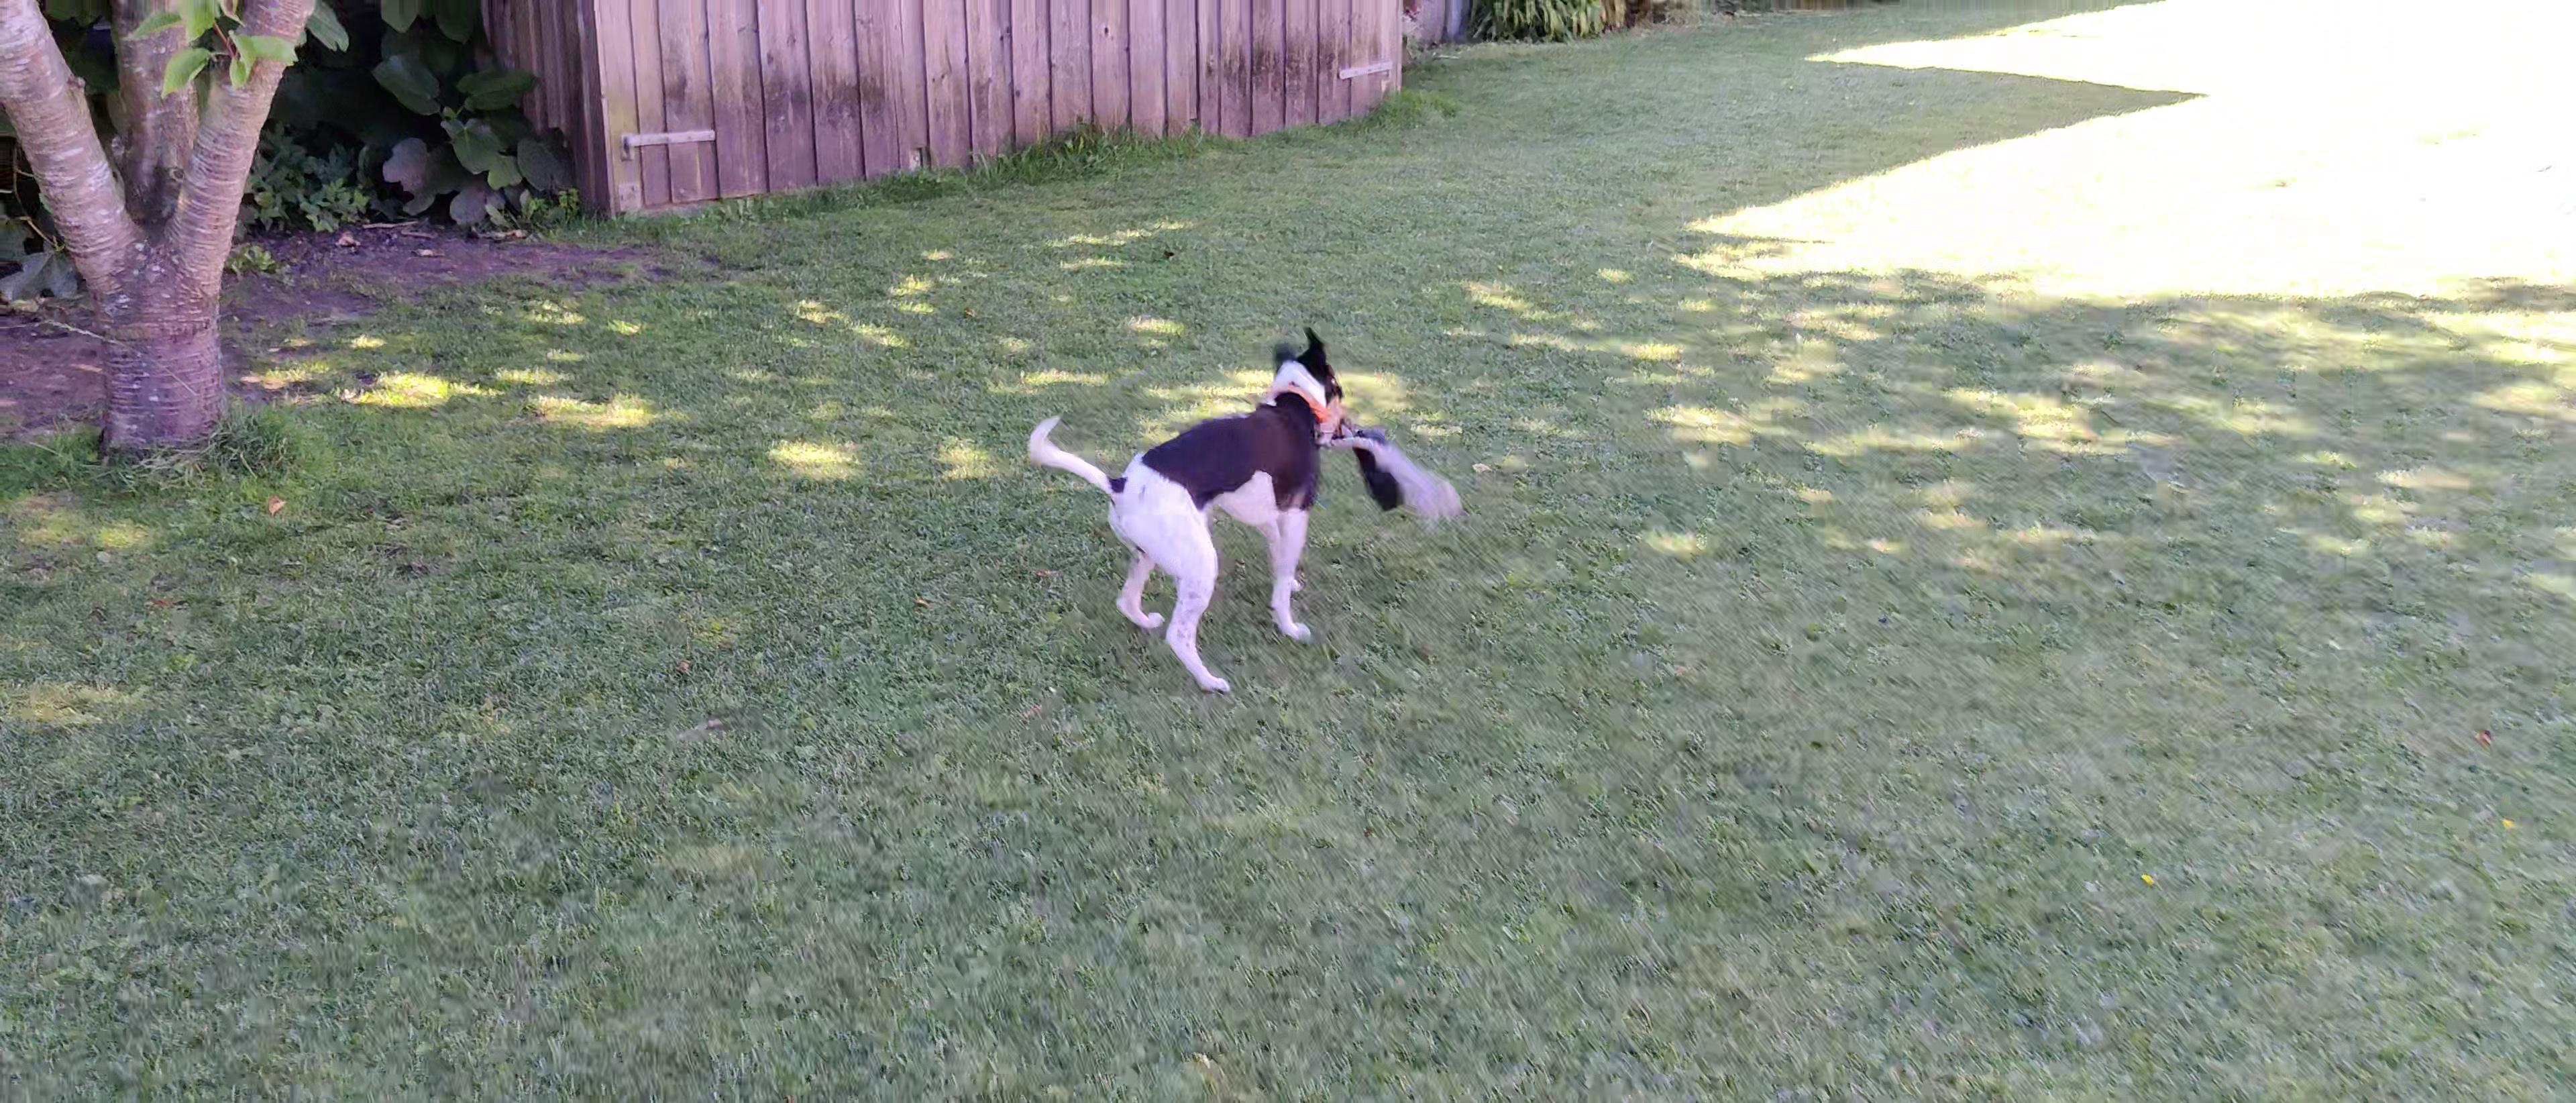Dog: (1022, 317, 1360, 690)
